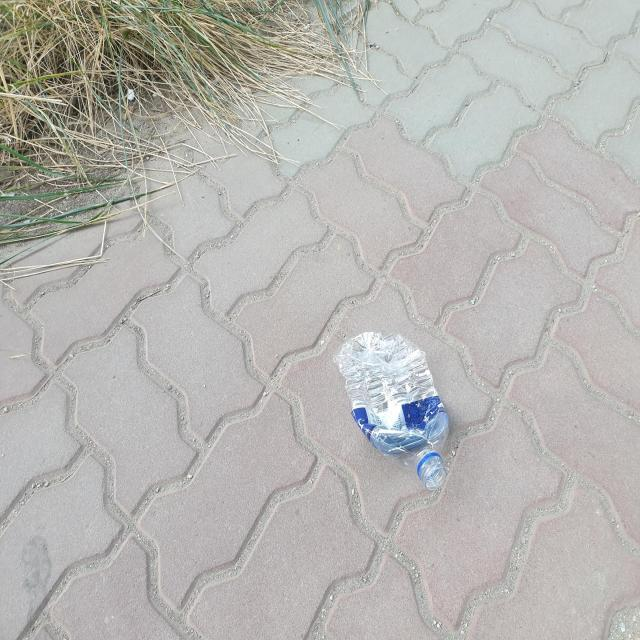plastic: (334, 331, 449, 491)
